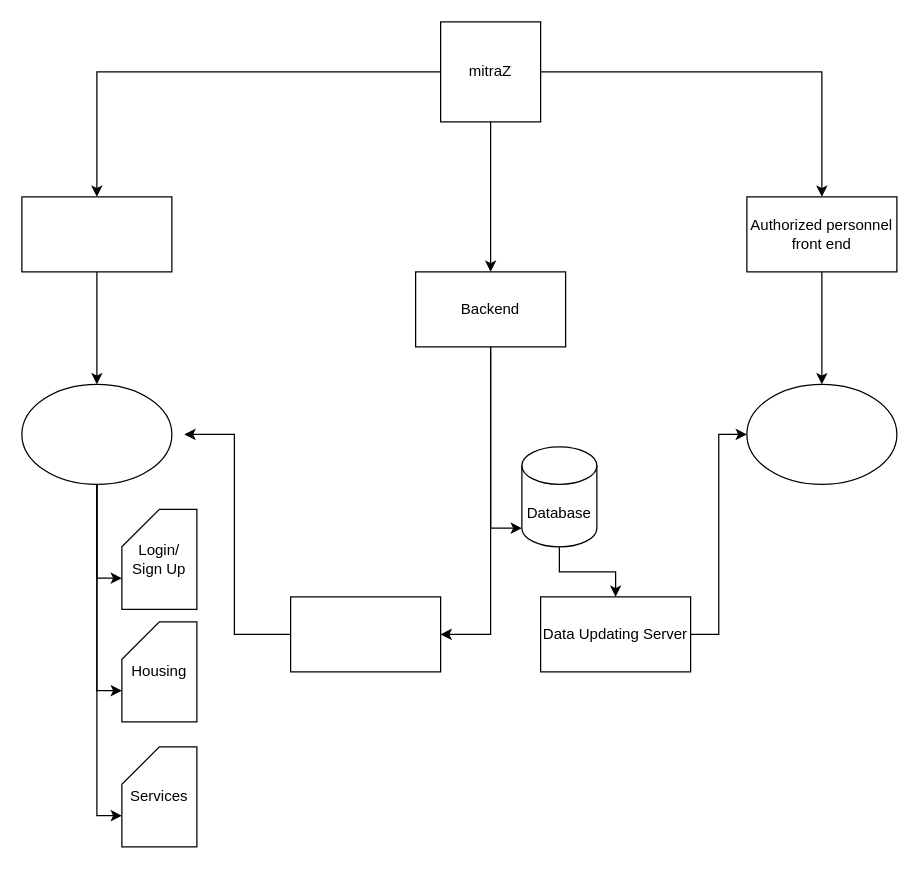
The diagram is 919 pixels wide and 869 high, and some of its shapes have lost their labels. The centre of each missing label's shape, as x and y in pixels:
Application Server: [365,634]
Mobile App: [96,433]
User Front End: [96,234]
WebAPP: [821,433]
